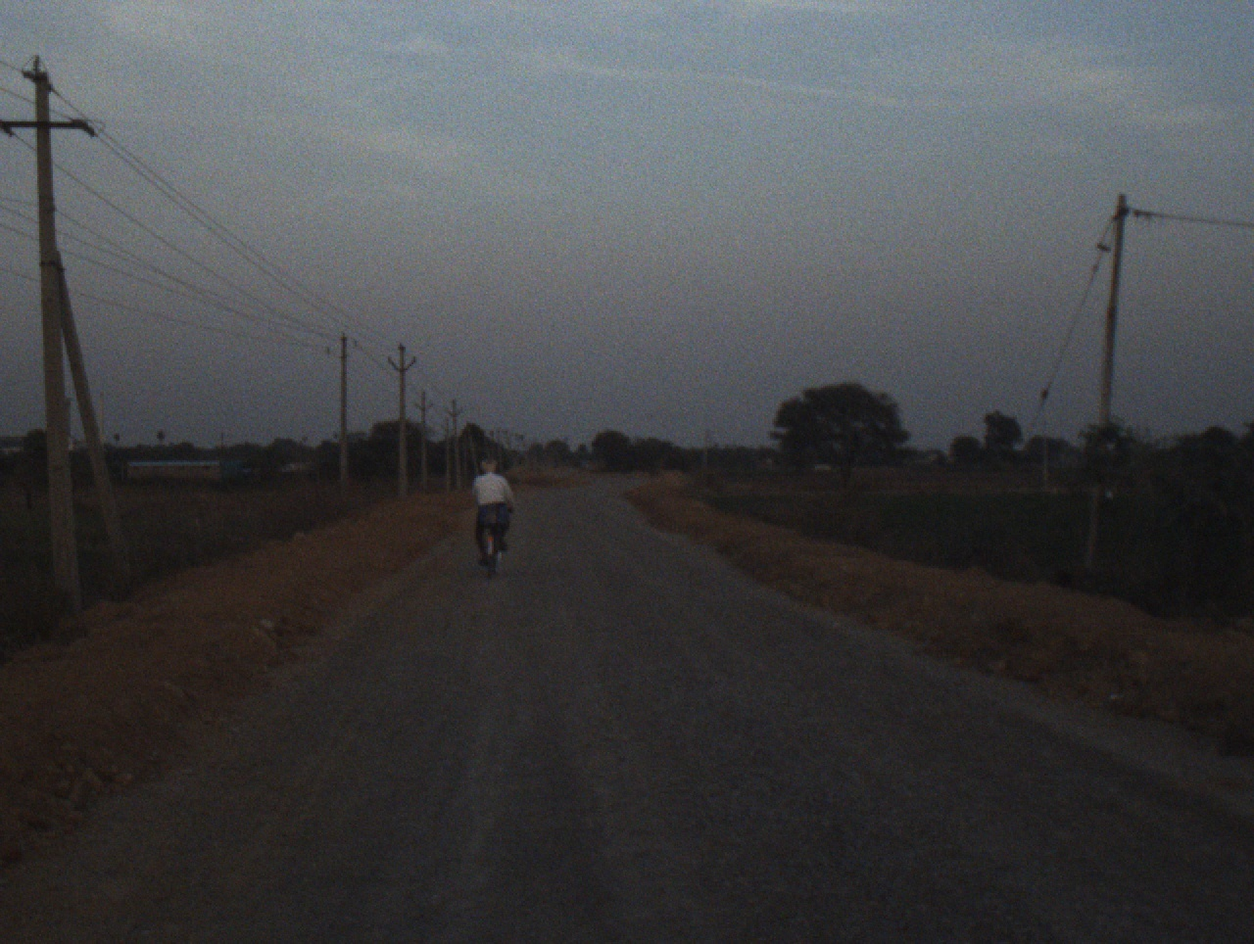motorcycle: (477, 497, 505, 580)
rider: (465, 456, 517, 574)
